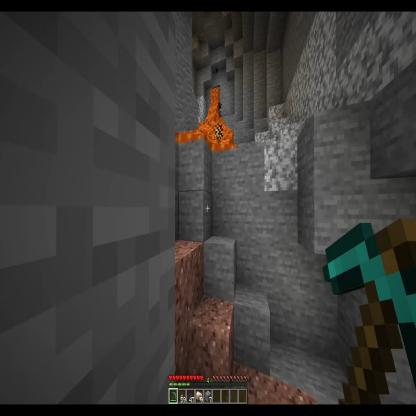iron ore: (187, 37, 201, 61), (197, 31, 208, 46)
